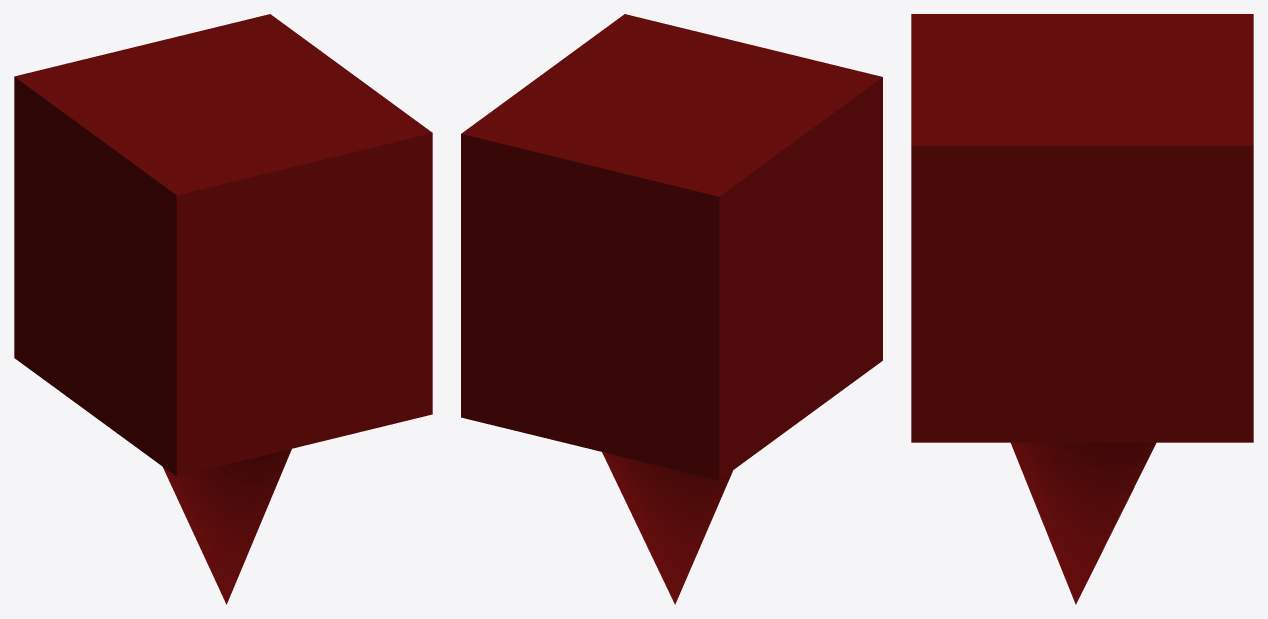
The model's file is righthand.obj.
3 views of the same model, side by side, from view 1: azimuth 30°, elevation 25°; view 2: azimuth 150°, elevation 25°; view 3: azimuth 270°, elevation 25° (orthographic). The views are drawn at different scales.
Parts seen in each view (by area): view 1: pCone2; view 2: pCone2; view 3: pCone2.
Part boxes in pixels (x1,y1,x2,y2): pCone2: [14, 14, 432, 604]; pCone2: [461, 14, 882, 604]; pCone2: [911, 14, 1253, 604].
Bounding box in the file's own units: 1.61 × 2.99 × 1.77.
